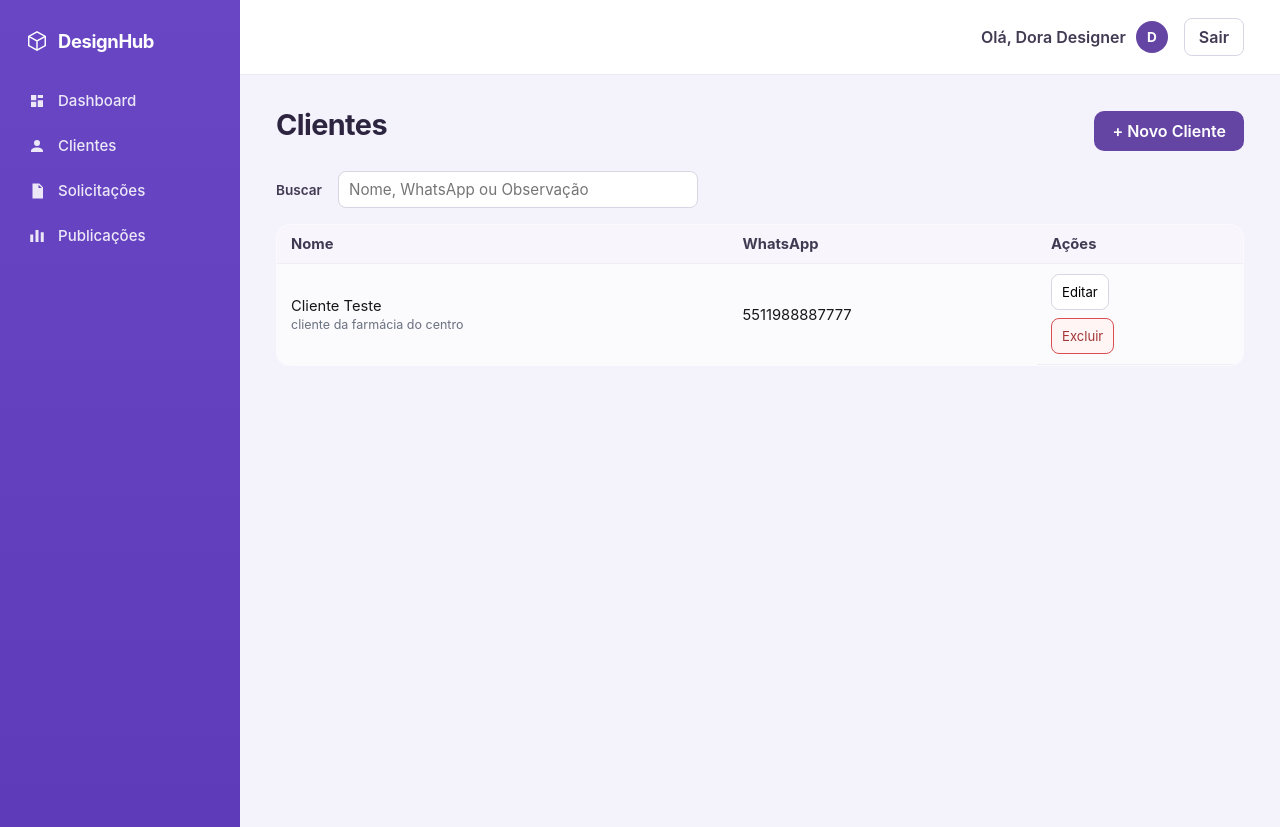
Test: ClientesPage (RF003 — CRUD completo) › exibe o erro do backend (ex.: WhatsApp duplicado) sem mascarar ao cadastrar
Expected: the text "Cliente Teste" is shown, top-left (291, 297), bottom-right (382, 315)
Click the button "+ Novo Cliente". click: (1169, 131)
box: top-left (1094, 111), bottom-right (1244, 151)
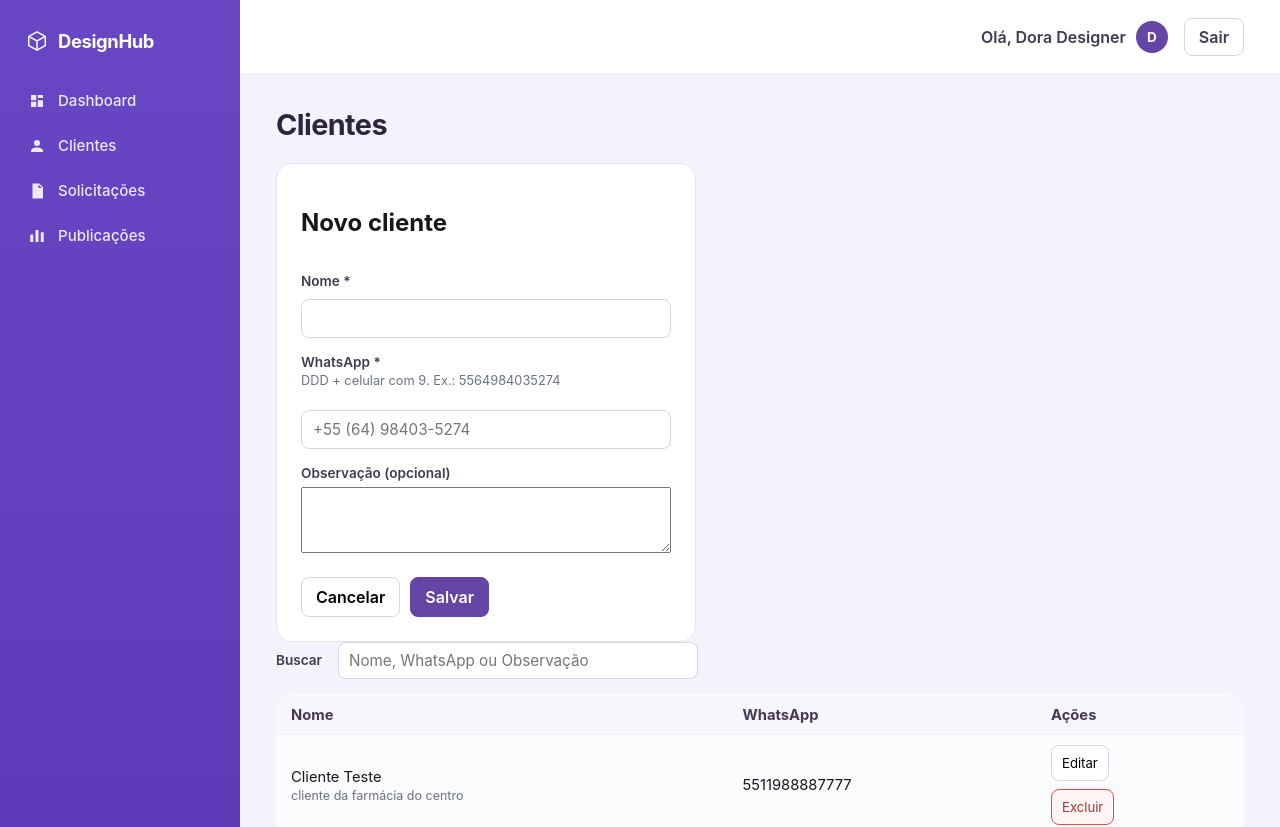
Type "Cliente Repetido" into the field labelled "Nome *". click: (486, 318)
box: top-left (301, 299), bottom-right (671, 338)
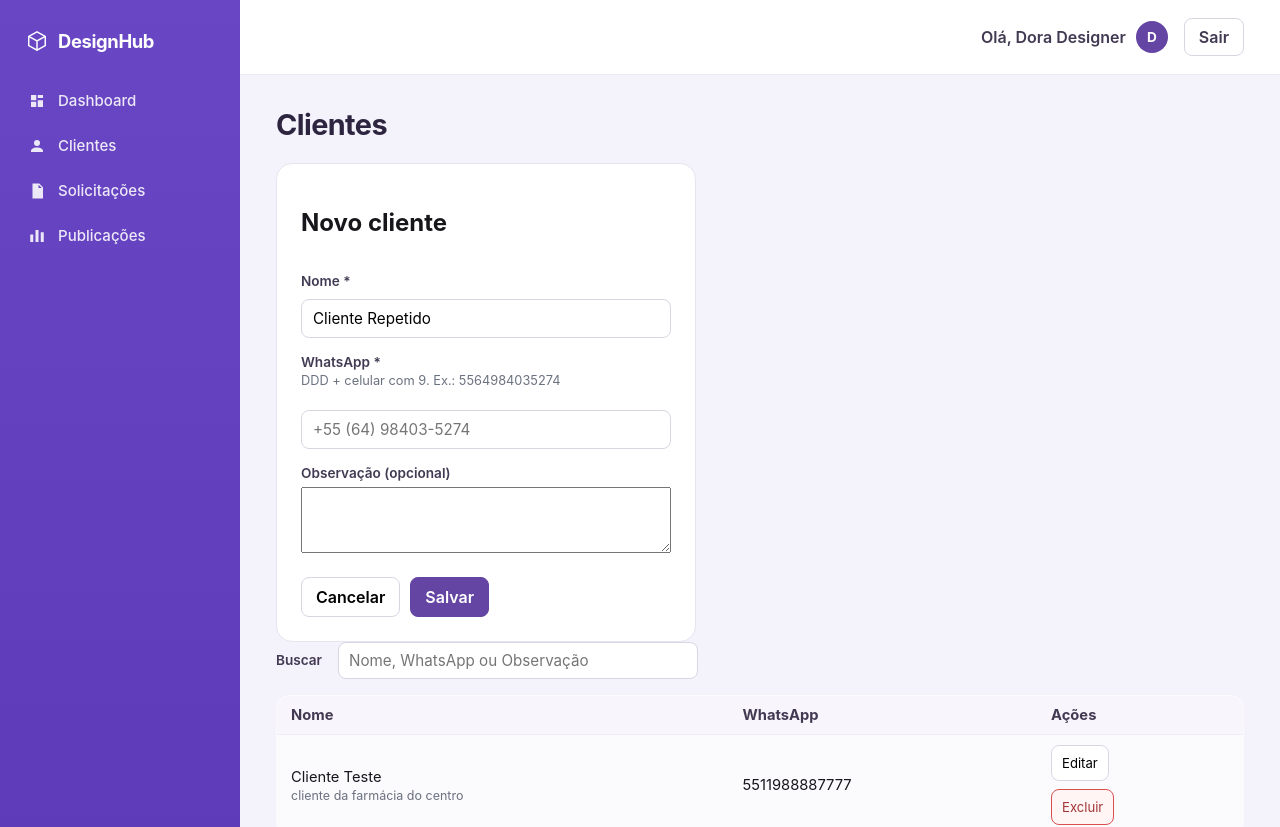
Type "5511988887777" into the field labelled "WhatsApp *". click: (486, 429)
box: top-left (301, 410), bottom-right (671, 448)
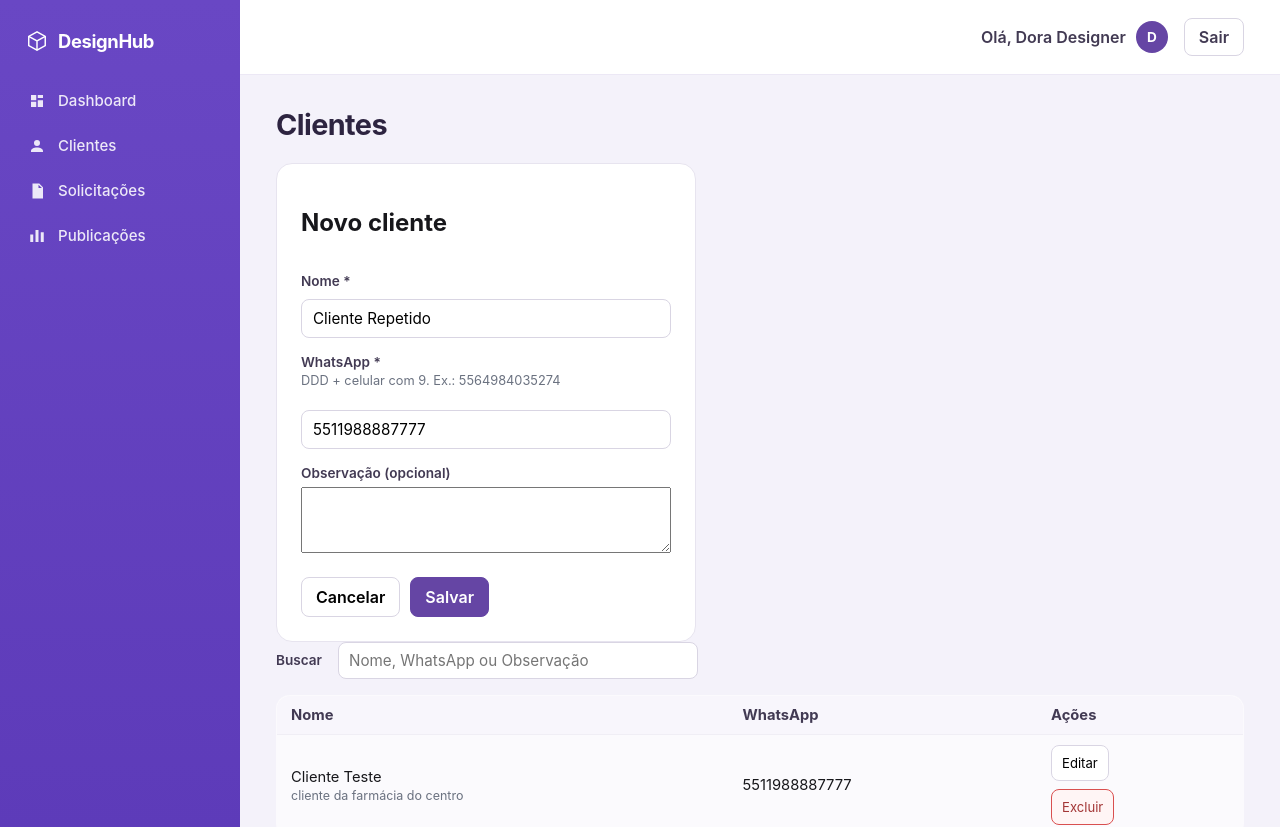
Click the button "Salvar". click: (450, 596)
box: top-left (410, 576), bottom-right (489, 616)
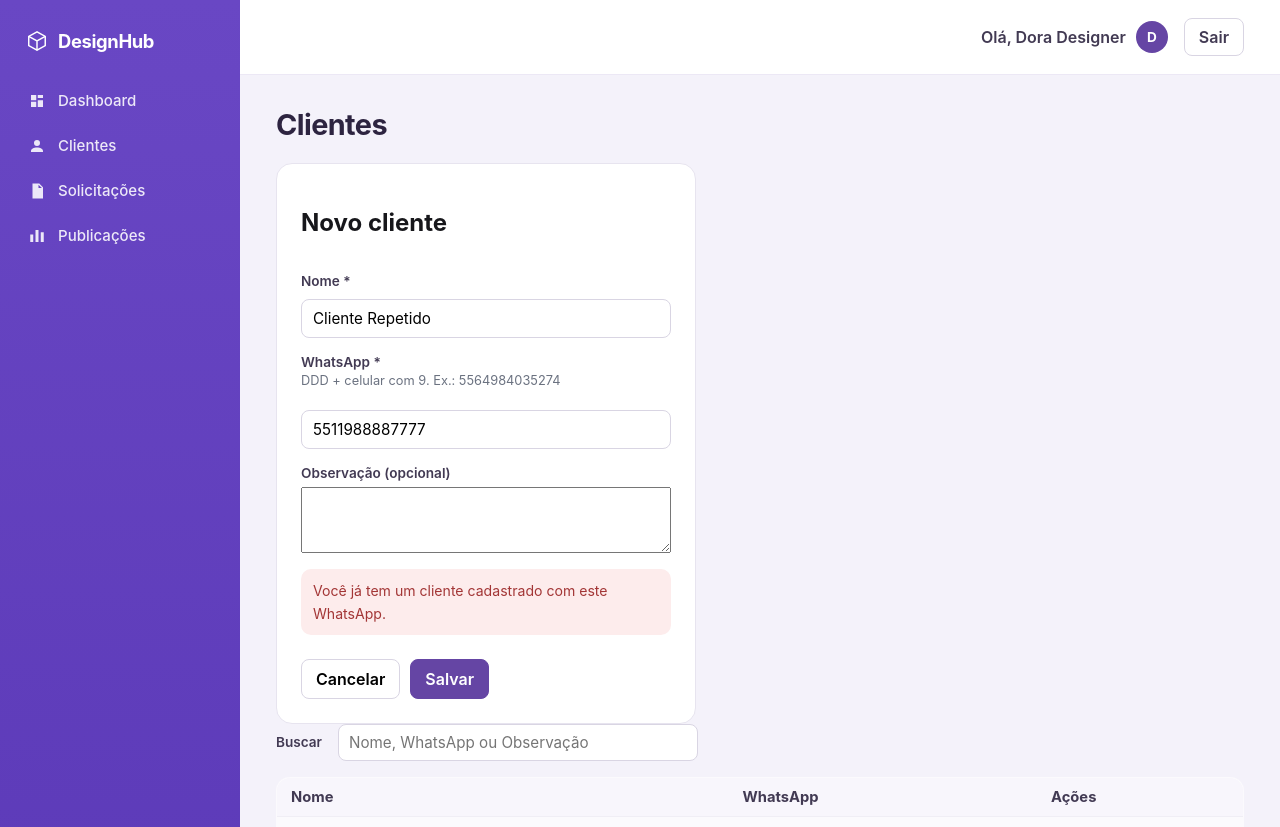
Expected: the text "Você já tem um cliente cadastrado com este WhatsApp." is shown, top-left (301, 568), bottom-right (671, 635)
